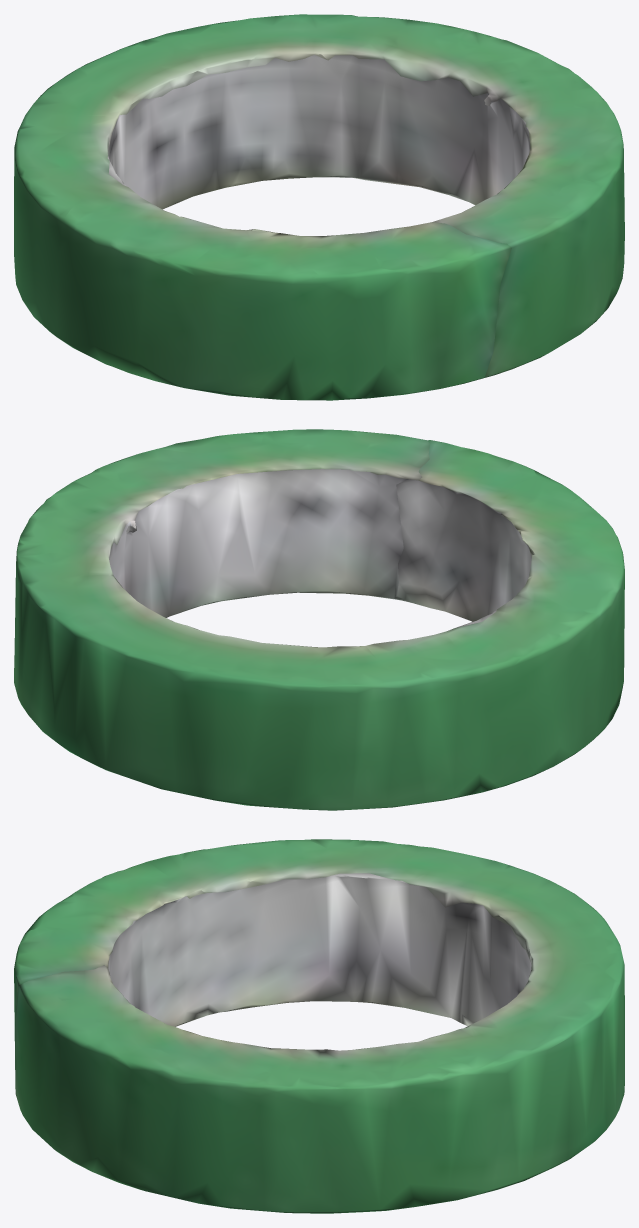
The model's file is 3M_Vinyl_Tape_Green_1_x_36_yd-medium.glb.
3 renders of one model, top to bottom at view 1: azimuth 30°, elevation 25°; view 2: azimuth 150°, elevation 25°; view 3: azimuth 270°, elevation 25°, orthographic.
Visible parts, largest first — view 1: 3M_Vinyl_Tape_Green_1_x_36_yd; view 2: 3M_Vinyl_Tape_Green_1_x_36_yd; view 3: 3M_Vinyl_Tape_Green_1_x_36_yd.
Part boxes in pixels (left/top/right/bottom): 3M_Vinyl_Tape_Green_1_x_36_yd: left=14, top=14, right=624, bottom=400; 3M_Vinyl_Tape_Green_1_x_36_yd: left=14, top=429, right=624, bottom=810; 3M_Vinyl_Tape_Green_1_x_36_yd: left=14, top=839, right=624, bottom=1213.
Bounding box in the file's own units: 0.1108 × 0.0266 × 0.1102.
Materials: 1 (1 with a texture image).
